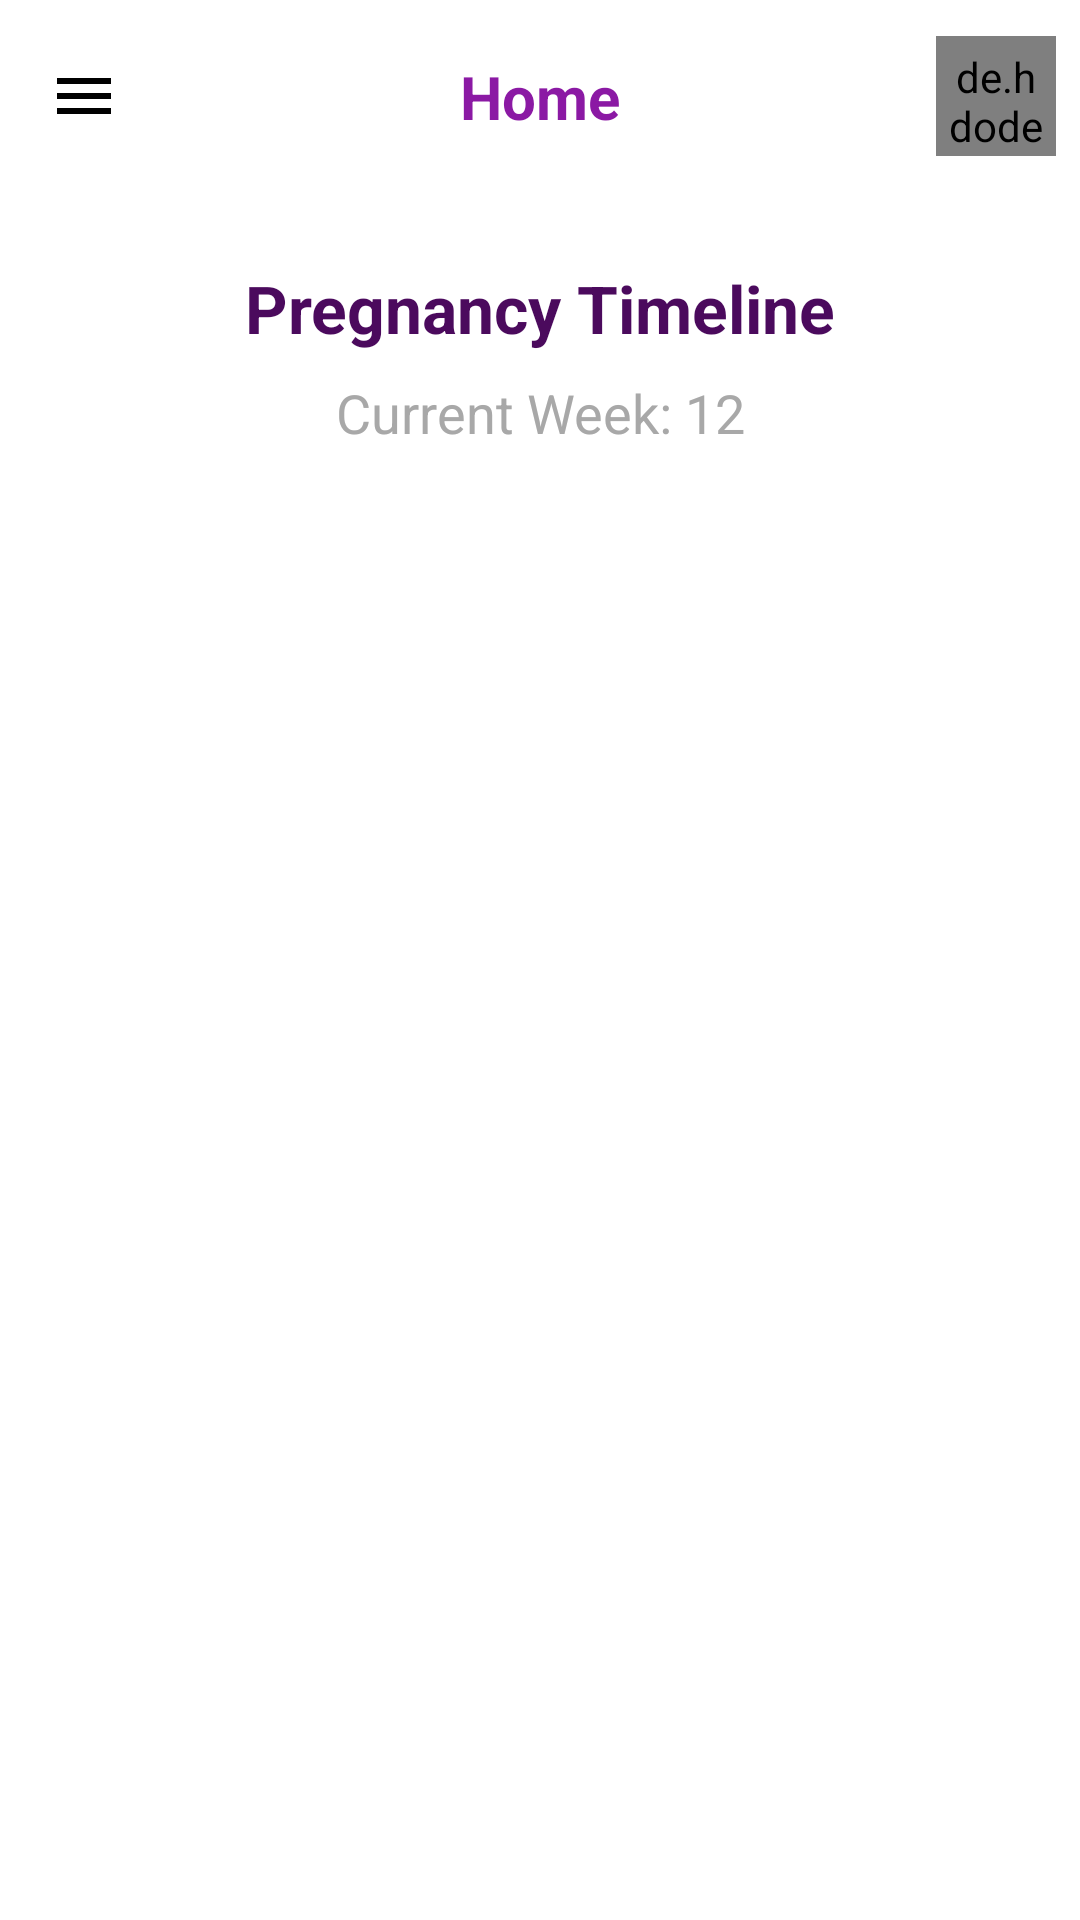

Icons on this 1080px×1920px Android screen, each with its box as (x1, y1, x2, y2):
Menu: (57, 78, 111, 114)
